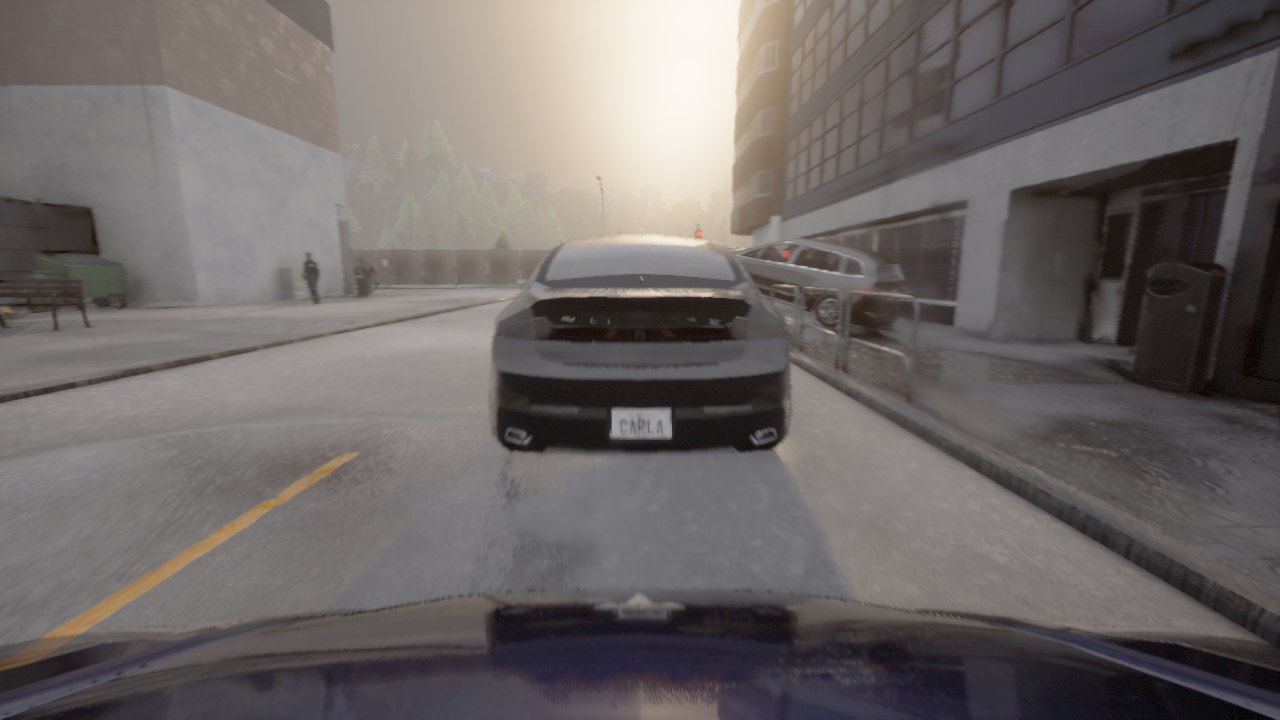cyclist: (0, 588, 1279, 719), (489, 234, 791, 455), (730, 238, 904, 327)
pedestrian: (302, 252, 321, 305), (360, 259, 377, 297)
